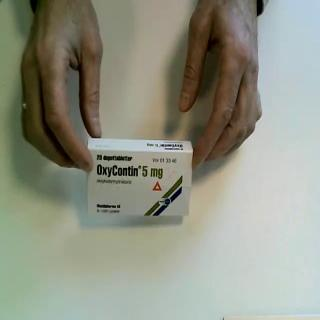oxycontin5mg: (87, 136, 195, 220)
